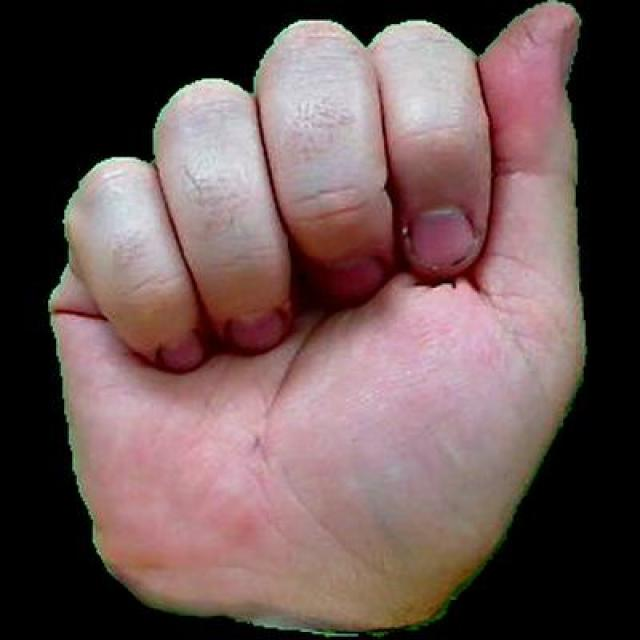a: (22, 0, 590, 637)
